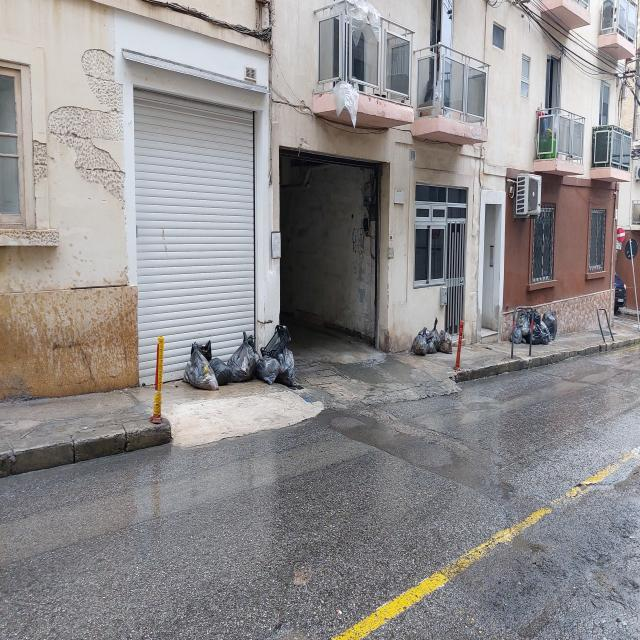Mixed Waste -Black Bag-: (184, 343, 220, 392), (228, 333, 257, 383), (276, 346, 296, 387), (257, 356, 283, 386), (209, 358, 233, 387), (410, 328, 429, 357), (543, 311, 558, 342), (191, 341, 213, 362), (248, 336, 262, 369), (439, 328, 453, 355), (431, 318, 442, 352), (527, 323, 544, 345), (518, 315, 533, 337), (539, 322, 554, 342), (419, 329, 434, 344), (511, 327, 523, 345), (531, 310, 542, 328), (428, 343, 439, 355), (540, 333, 550, 346)
Other: (261, 326, 292, 361)
